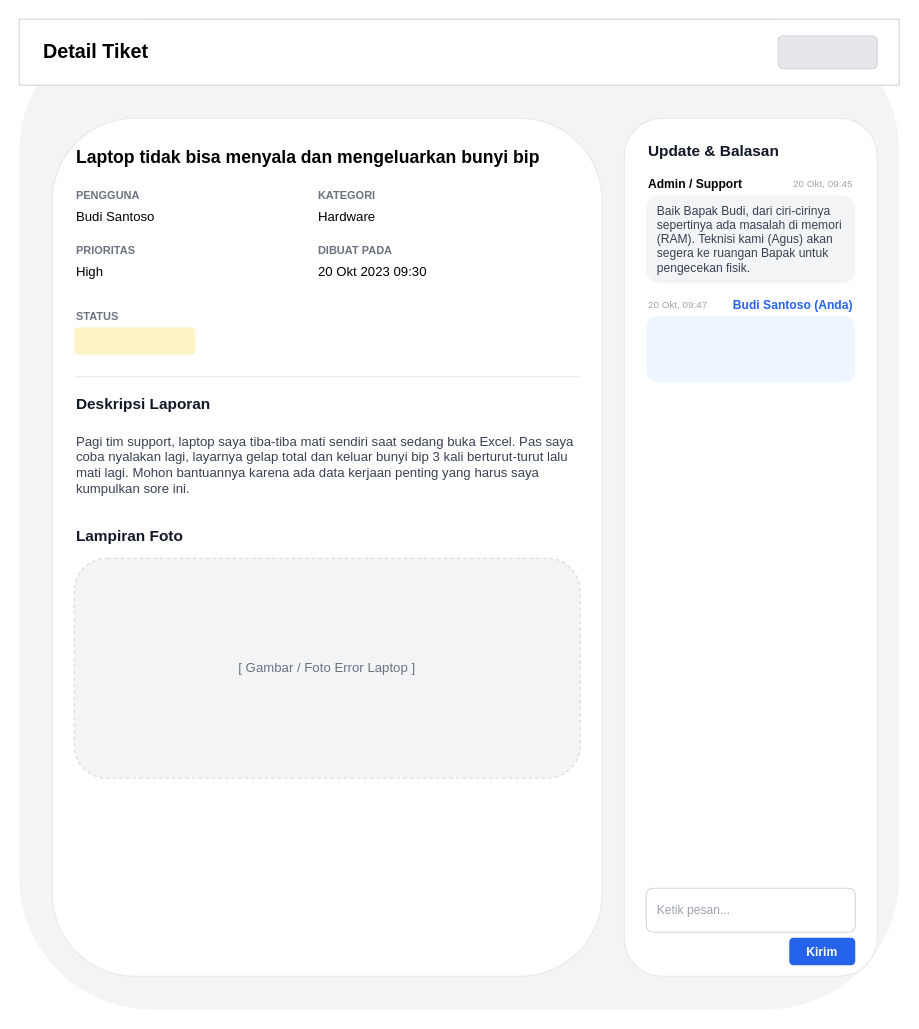
Image size: 919x1029. Some labels were removed from this diagram. Here are the shapes that lost their labels. From the top down, the centre of each, then its label:
At (827,52): "← Kembali".
At (134,340): "Sedang Diproses".
At (750,349): "Baik mas, terima kasih respon cepatnya. Ditunggu di lantai 3 ya.".
